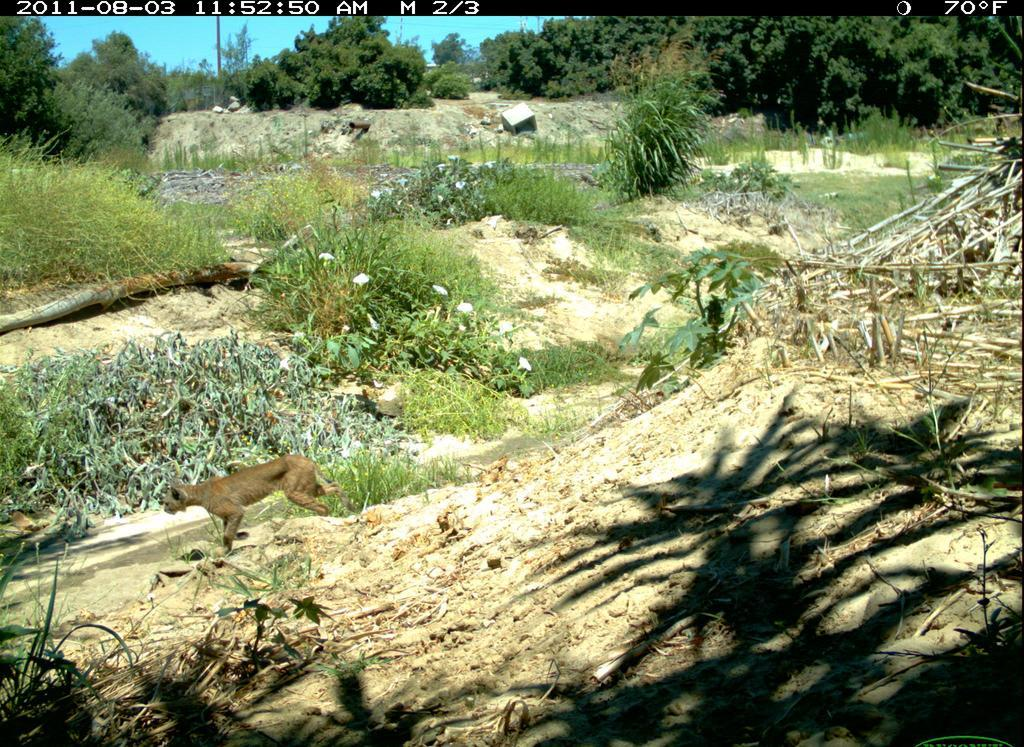bobcat: (161, 442, 363, 561)
